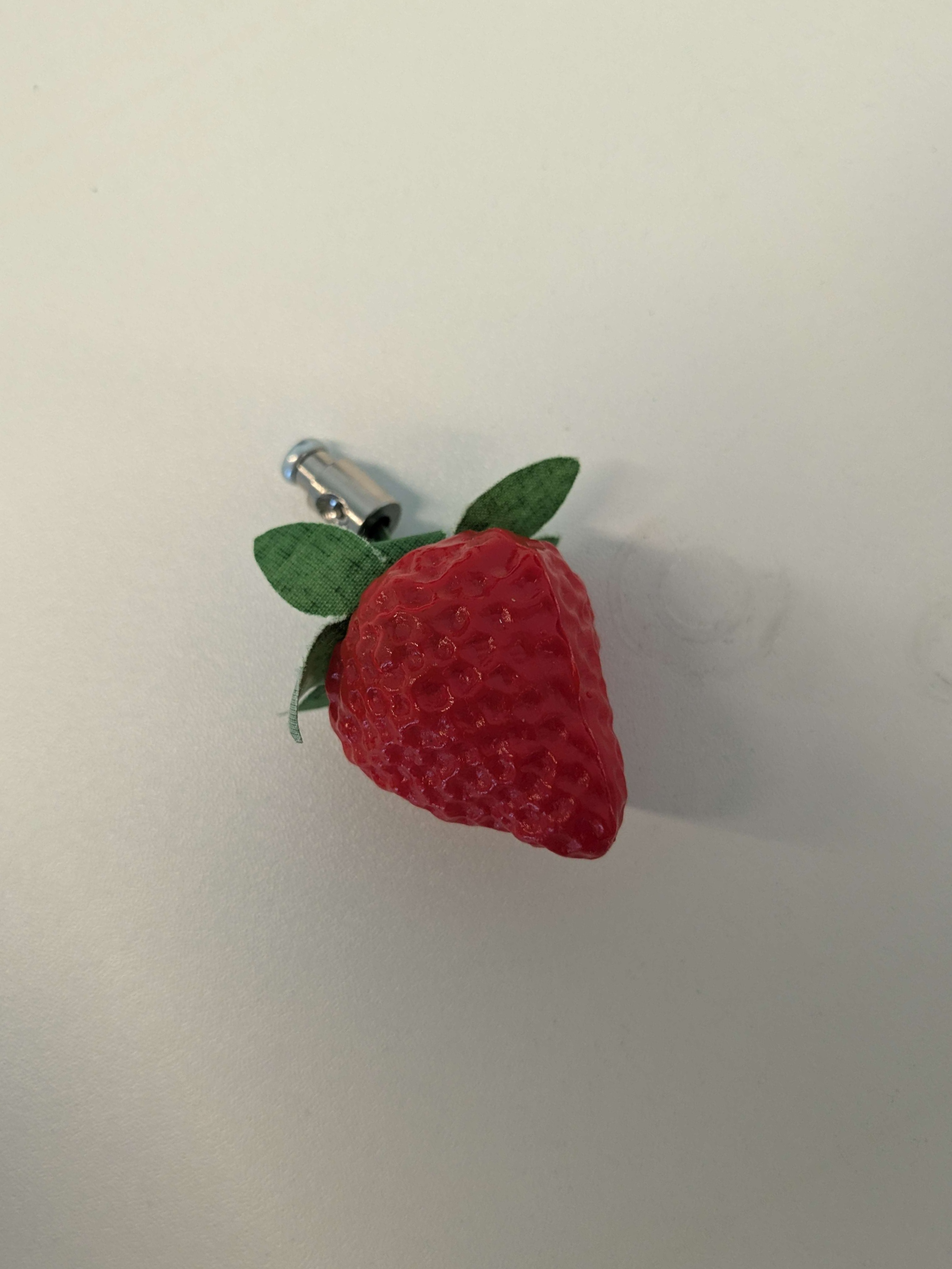Strawberry: (225, 447, 743, 987)
